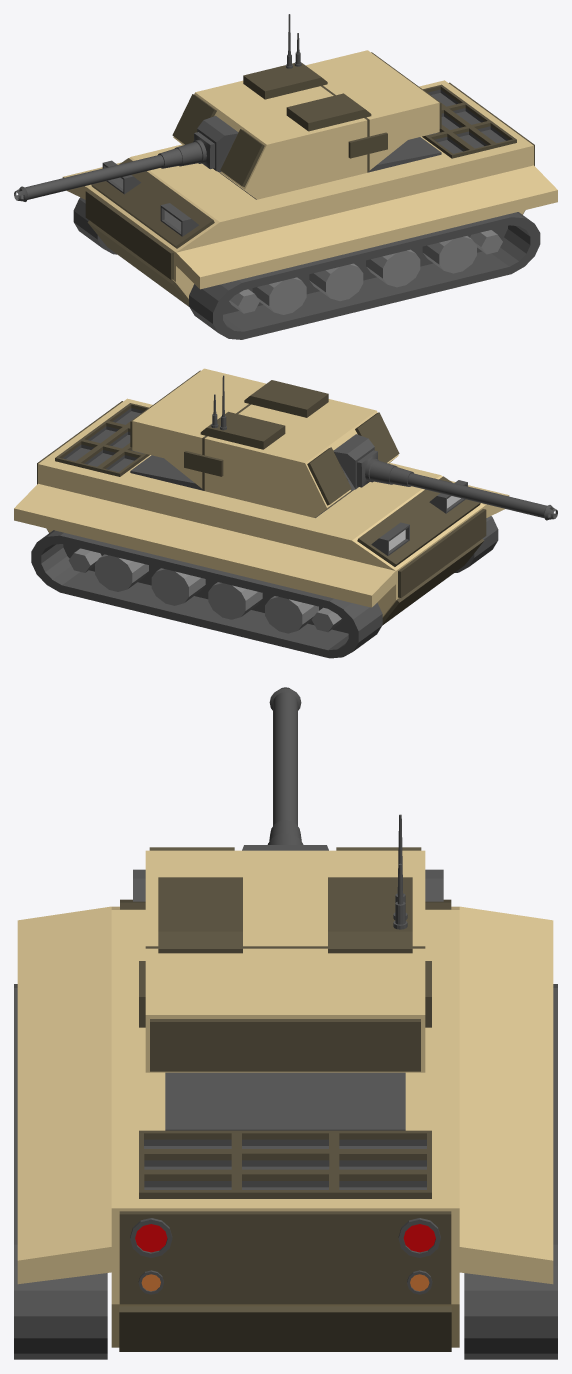
The model's file is tank_tier1.fbx.
3 renders of one model, top to bottom at view 1: azimuth 30°, elevation 25°; view 2: azimuth 150°, elevation 25°; view 3: azimuth 270°, elevation 25°, orthographic. The views are drawn at different scales.
Visible parts, largest first — view 1: body, head, wheel, gun; view 2: body, head, wheel, gun; view 3: body, head, wheel, gun.
Boxes of the visible parts, bbox=[...] form: body: bbox=[62, 80, 557, 306]; head: bbox=[172, 14, 441, 199]; wheel: bbox=[73, 197, 540, 339]; gun: bbox=[14, 116, 238, 201]; body: bbox=[14, 398, 509, 625]; head: bbox=[130, 368, 399, 517]; wheel: bbox=[31, 516, 498, 658]; gun: bbox=[333, 434, 557, 520]; body: bbox=[17, 869, 553, 1351]; head: bbox=[139, 814, 431, 1072]; wheel: bbox=[14, 984, 557, 1359]; gun: bbox=[242, 687, 328, 850].
Size of the model in its own units: 1523 by 662 by 770.
